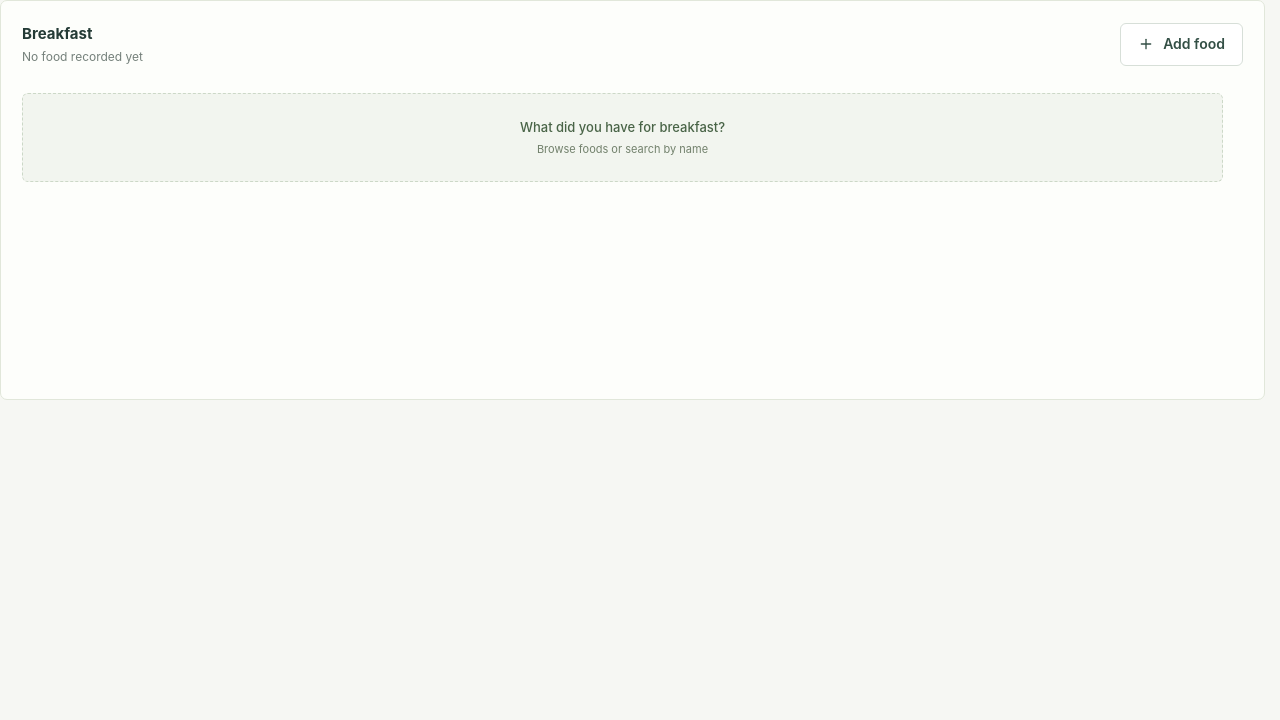
Test case: keeps search in a dialog and closes it without changing recorded foods
Click the button "Add food" at [1182, 44], box [1120,23,1243,66]
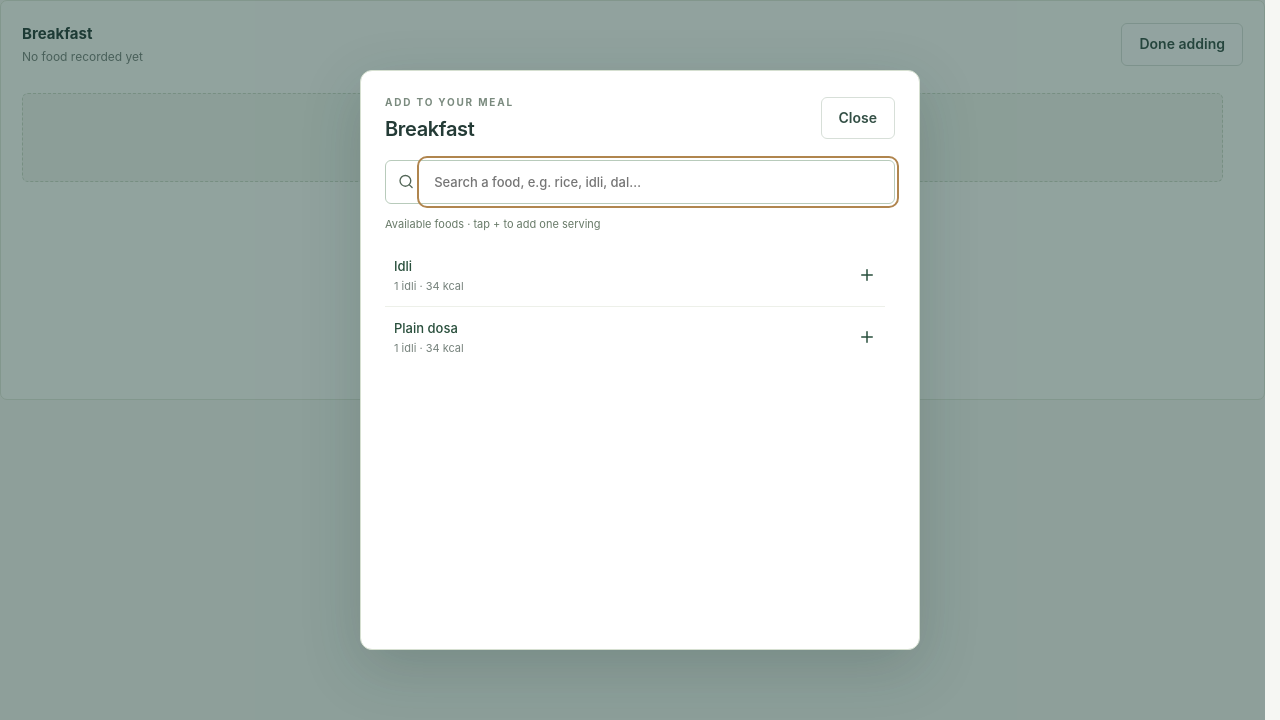
Check: the dialog named "Add food to breakfast" is shown, box [360,70,920,650]
Type "no match" into the search field at [658, 182], box [422,160,894,203]
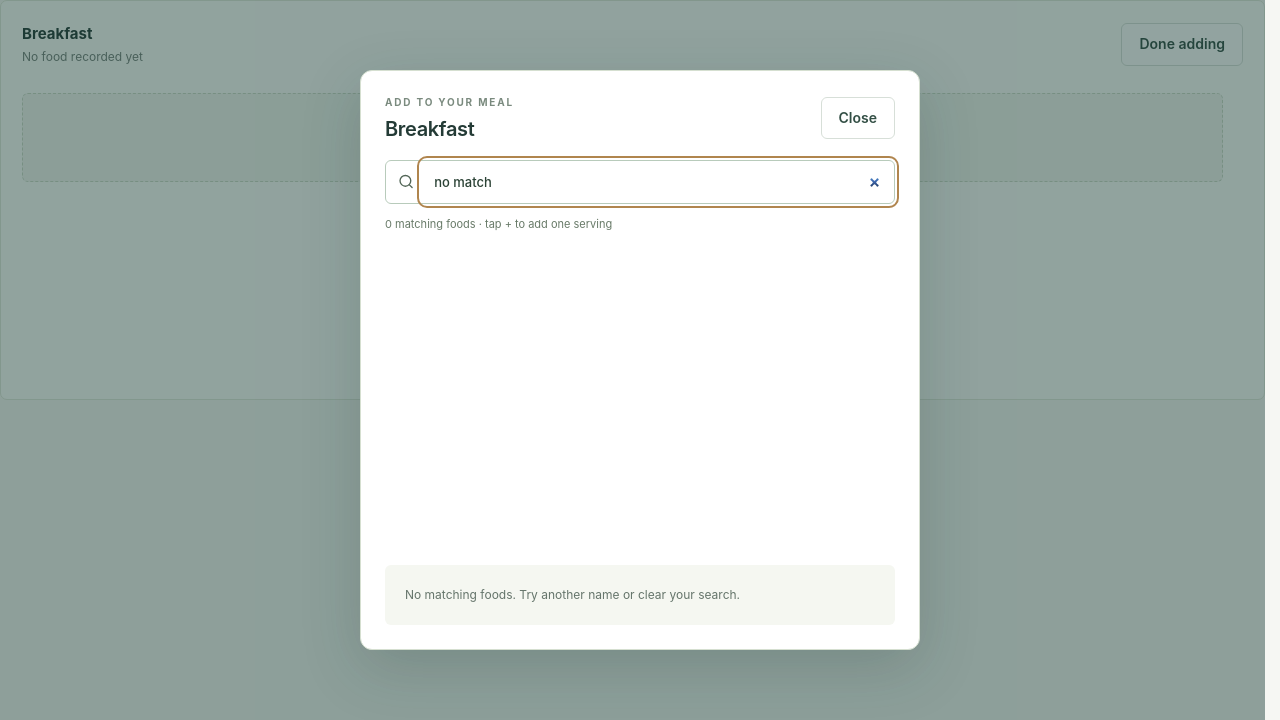
Check: the text "No matching foods. Try another name or clear your search." is shown, box [385,565,895,625]
Click the button "Close" at [858, 118], box [820,97,895,139]
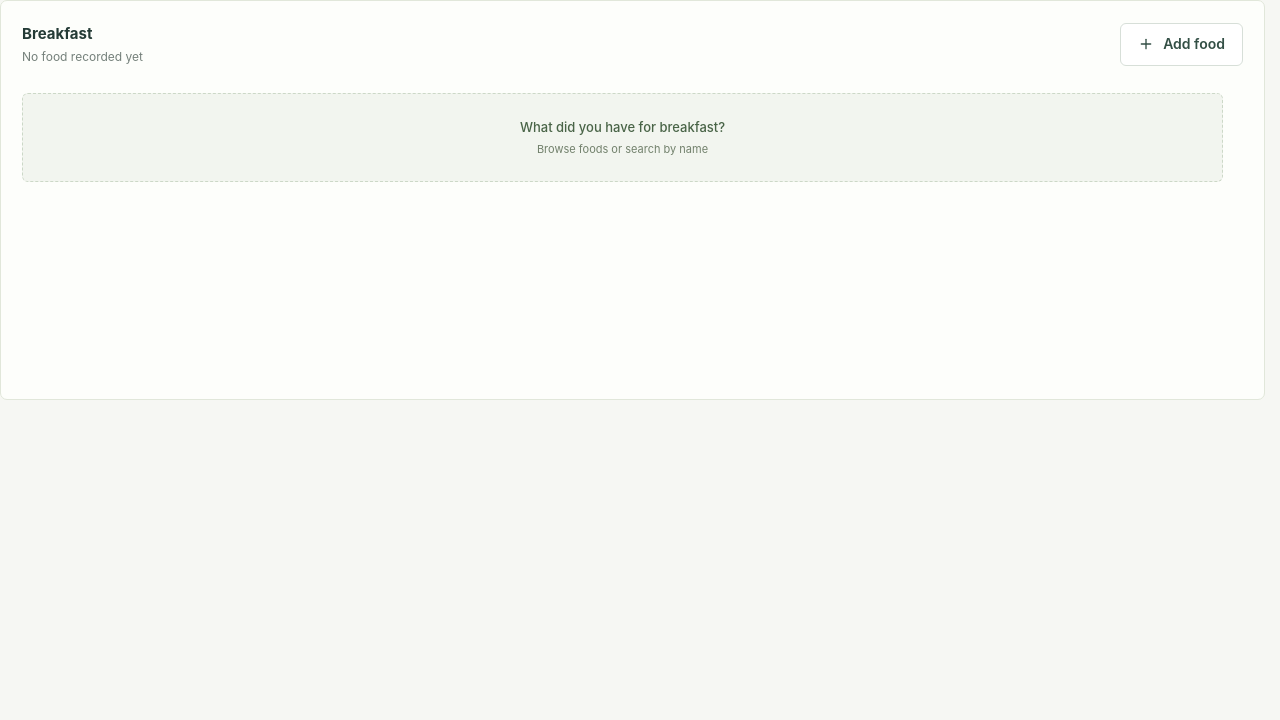
Check: the dialog is gone
